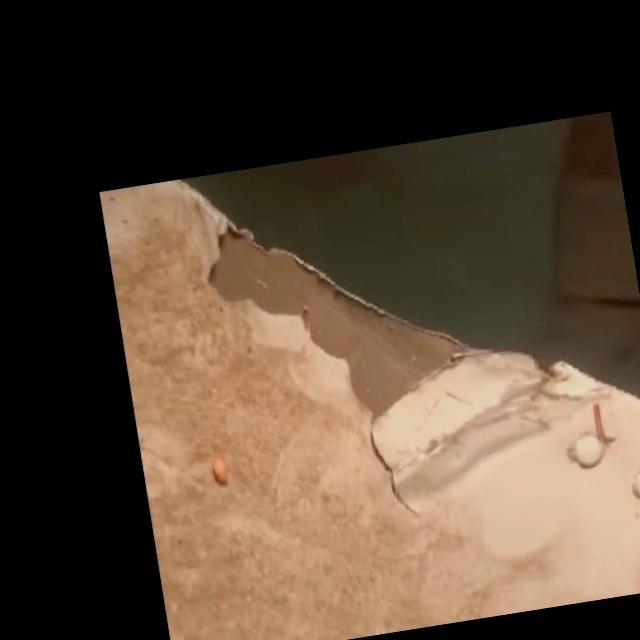crack: (369, 428, 407, 508)
dent: (207, 216, 477, 414), (373, 353, 601, 499), (477, 463, 640, 612), (567, 434, 605, 469), (631, 469, 640, 504)
